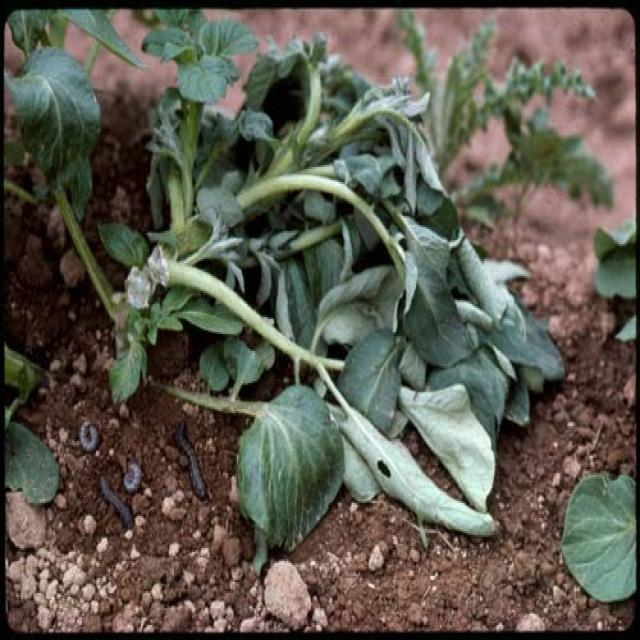worm: (172, 416, 215, 510), (98, 474, 140, 542), (122, 448, 147, 493), (83, 407, 102, 460)
